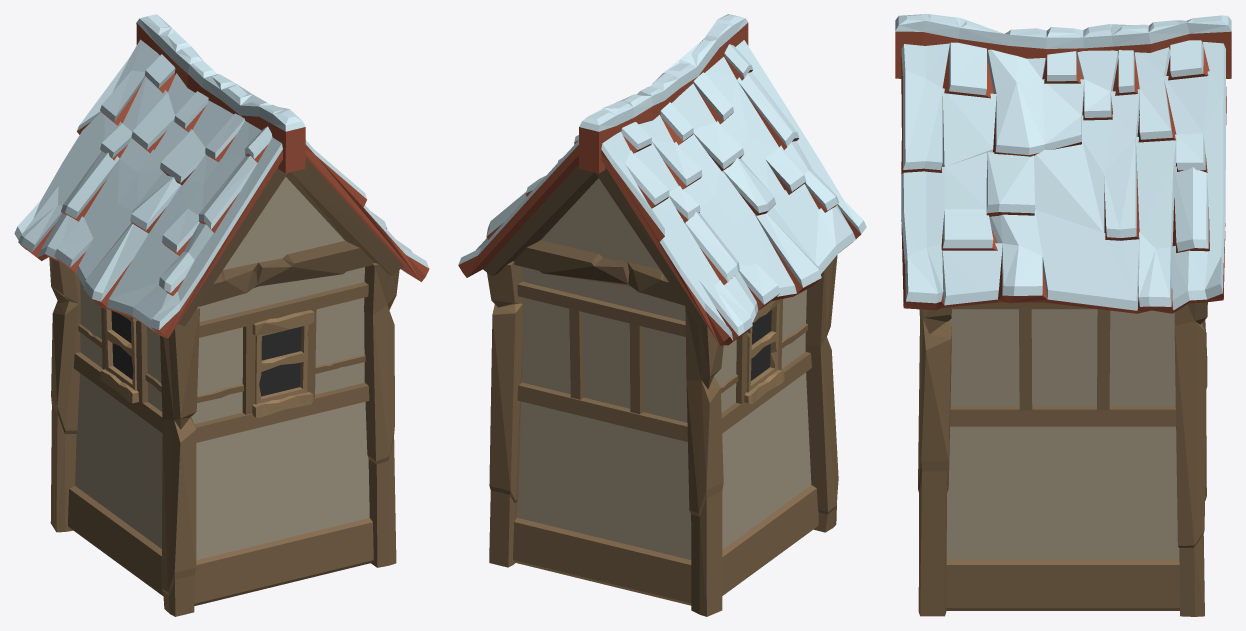
The model's file is SM_Bld_House_RoomTall_03_Snow.gltf.
3 renders of one model, left to right at view 1: azimuth 30°, elevation 25°; view 2: azimuth 150°, elevation 25°; view 3: azimuth 270°, elevation 25°, orthographic. The views are drawn at different scales.
Visible parts, largest first — view 1: SM_Bld_House_RoomTall_03_Snow; view 2: SM_Bld_House_RoomTall_03_Snow; view 3: SM_Bld_House_RoomTall_03_Snow.
Boxes of the visible parts, x1,y1,x2,y2 form: SM_Bld_House_RoomTall_03_Snow: (14,14,429,616); SM_Bld_House_RoomTall_03_Snow: (458,14,866,616); SM_Bld_House_RoomTall_03_Snow: (895,14,1231,616).
Size of the model in its own units: 3.6 by 5.75 by 3.26.
1 material, 1 textured.
